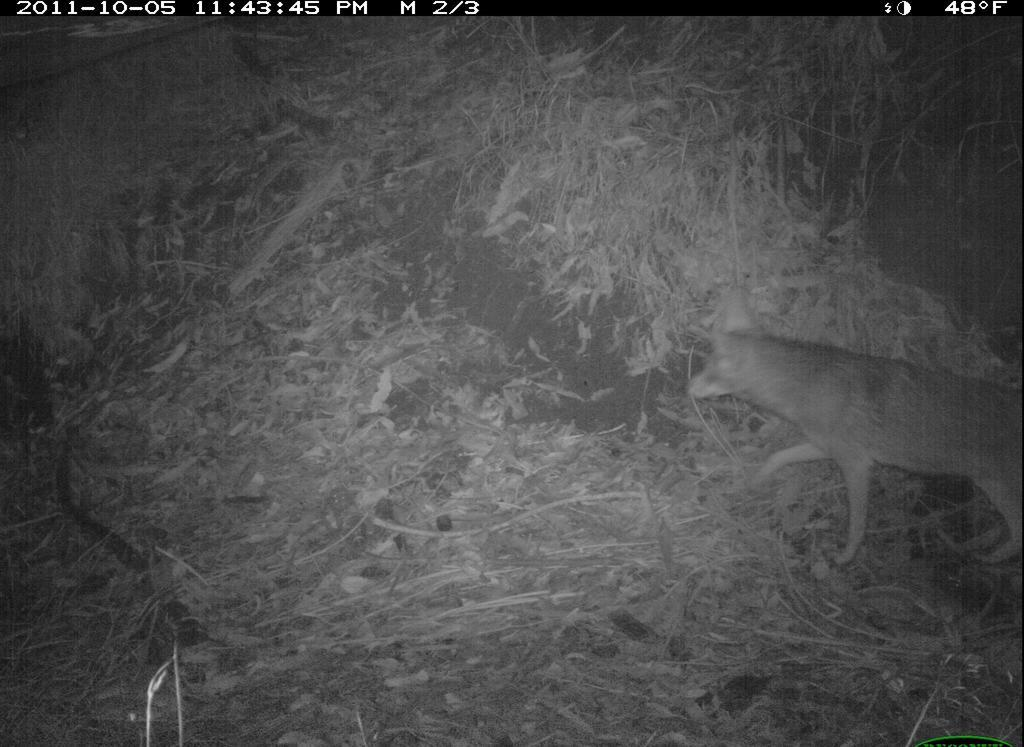coyote: (679, 280, 1014, 610)
